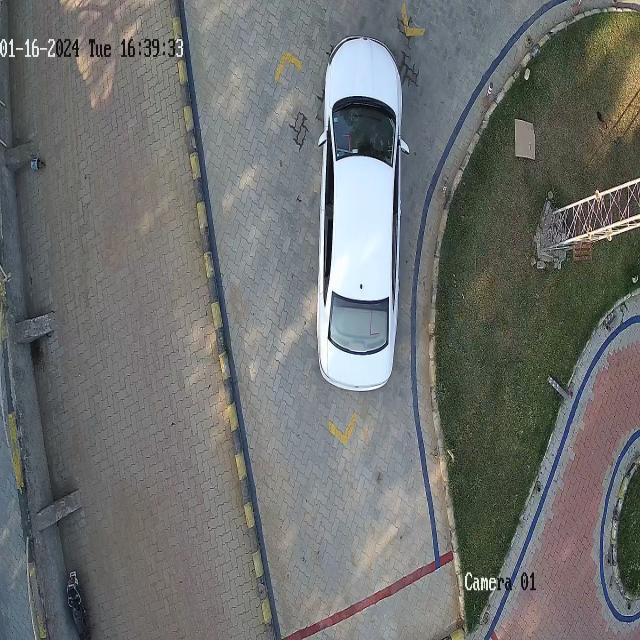car: (318, 38, 409, 391)
